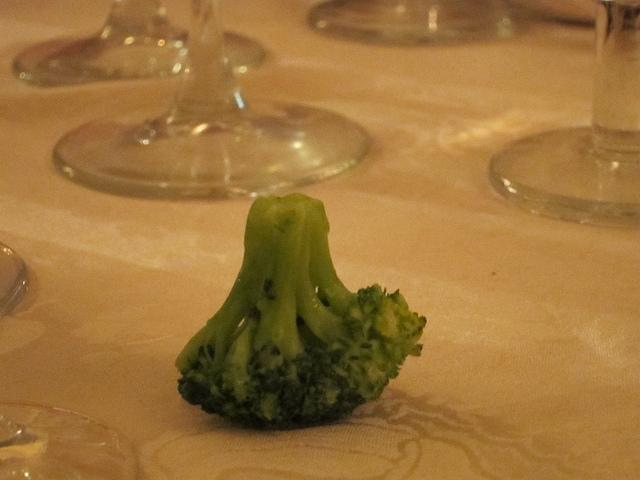broccoli: (175, 191, 426, 431)
